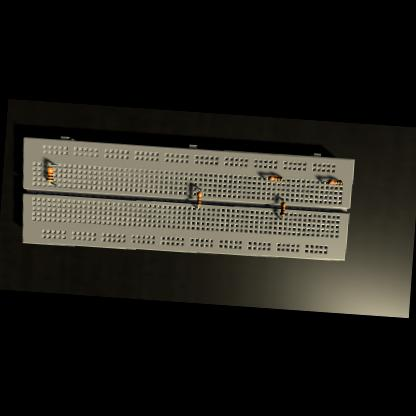breadboard: (15, 133, 354, 266)
resistor: (45, 167, 53, 181), (326, 179, 342, 184), (279, 202, 285, 214), (196, 192, 201, 206), (268, 175, 282, 180)
wire: (48, 182, 54, 184), (50, 164, 56, 166), (262, 177, 268, 179), (279, 216, 282, 219), (280, 199, 283, 201), (198, 190, 200, 192), (282, 178, 284, 180), (341, 182, 343, 183), (198, 206, 198, 209), (320, 182, 326, 182)
